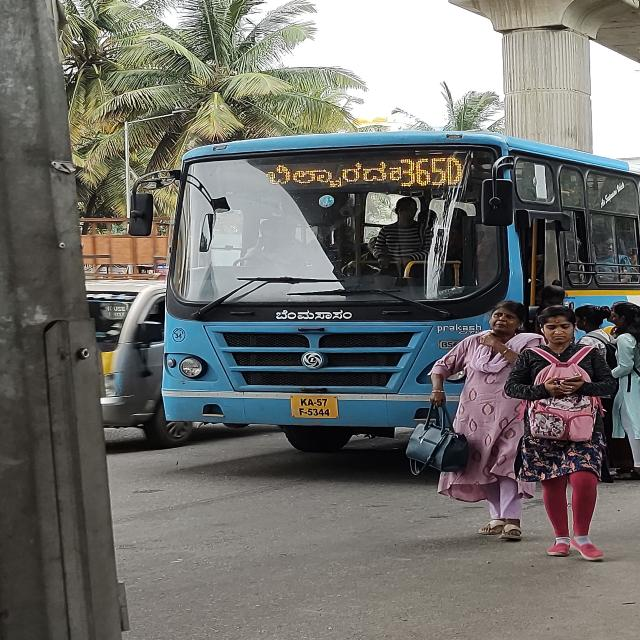bus: (164, 134, 640, 449)
display: (226, 156, 465, 194)
dnumber: (400, 158, 462, 188)
